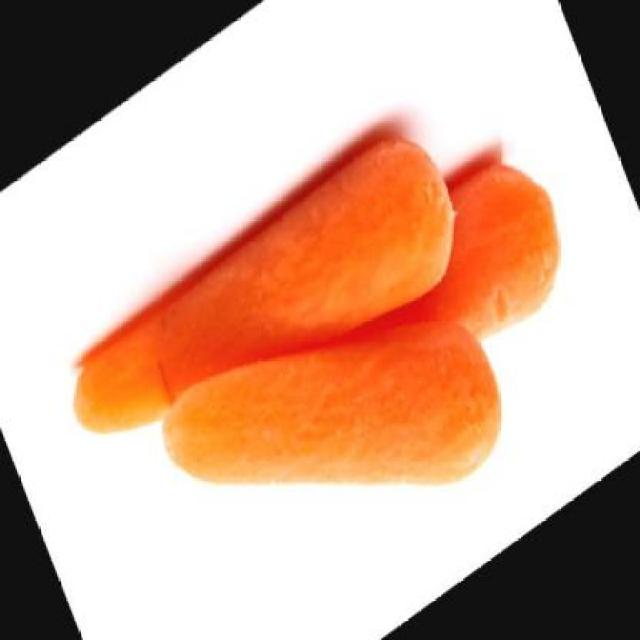carrot: (58, 111, 476, 518), (149, 210, 520, 638), (324, 133, 582, 424)
